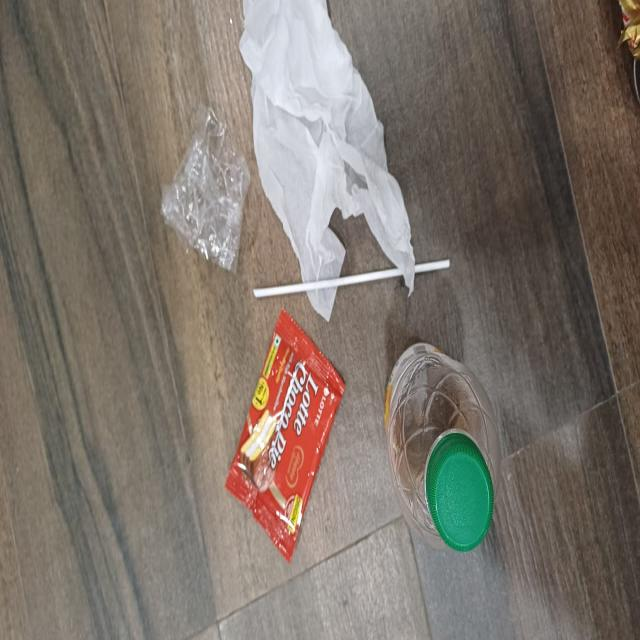Plastic-NonBio: (228, 309, 346, 563), (377, 330, 496, 554), (152, 108, 252, 281)
Straw-NonBio: (250, 257, 455, 303)
Tissue Paper-Bio: (239, 0, 421, 318)
